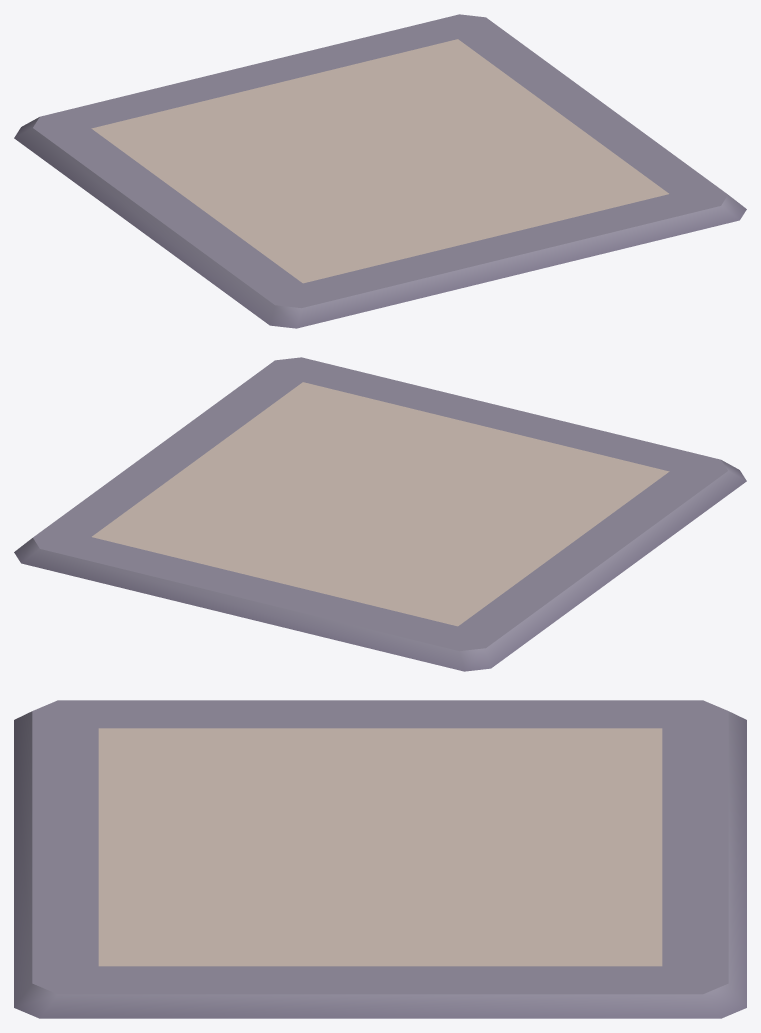
Rendered from carpet-tatami-square.glb.
The picture shows the model from 3 angles, top to bottom: view 1: azimuth 30°, elevation 25°; view 2: azimuth 150°, elevation 25°; view 3: azimuth 270°, elevation 25°; orthographic projection. The views are drawn at different scales.
Parts seen in each view (by area): view 1: carpet-tatami-square; view 2: carpet-tatami-square; view 3: carpet-tatami-square.
Part boxes in pixels (x1,y1,x2,y2): carpet-tatami-square: [14, 14, 746, 328]; carpet-tatami-square: [14, 357, 746, 671]; carpet-tatami-square: [14, 700, 746, 1018].
Size of the model in its own units: 1 by 0.025 by 1.
